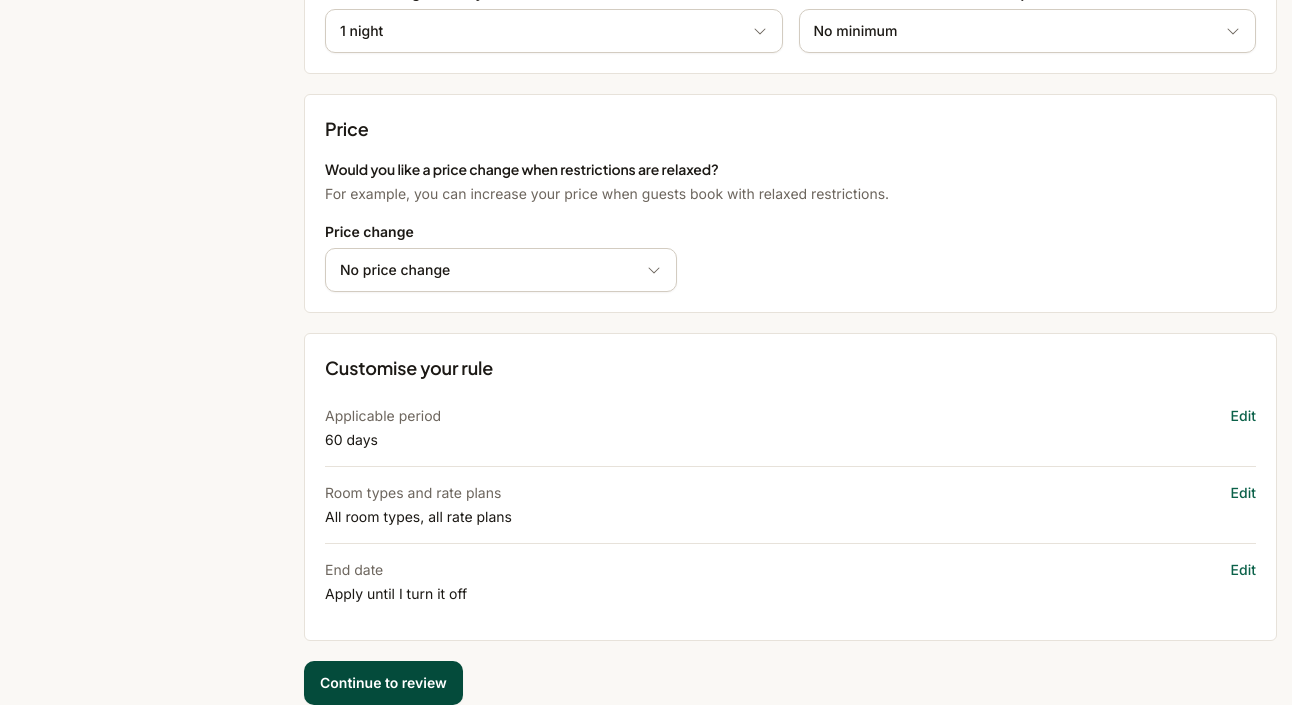
Scenario: Availability rules › saves an unsold nights rule on the property
Later steps or results of the test are not shown.
(page scrolled)
Click the button "Continue to review": point(383, 682) [304,660,463,704]
(page scrolled)
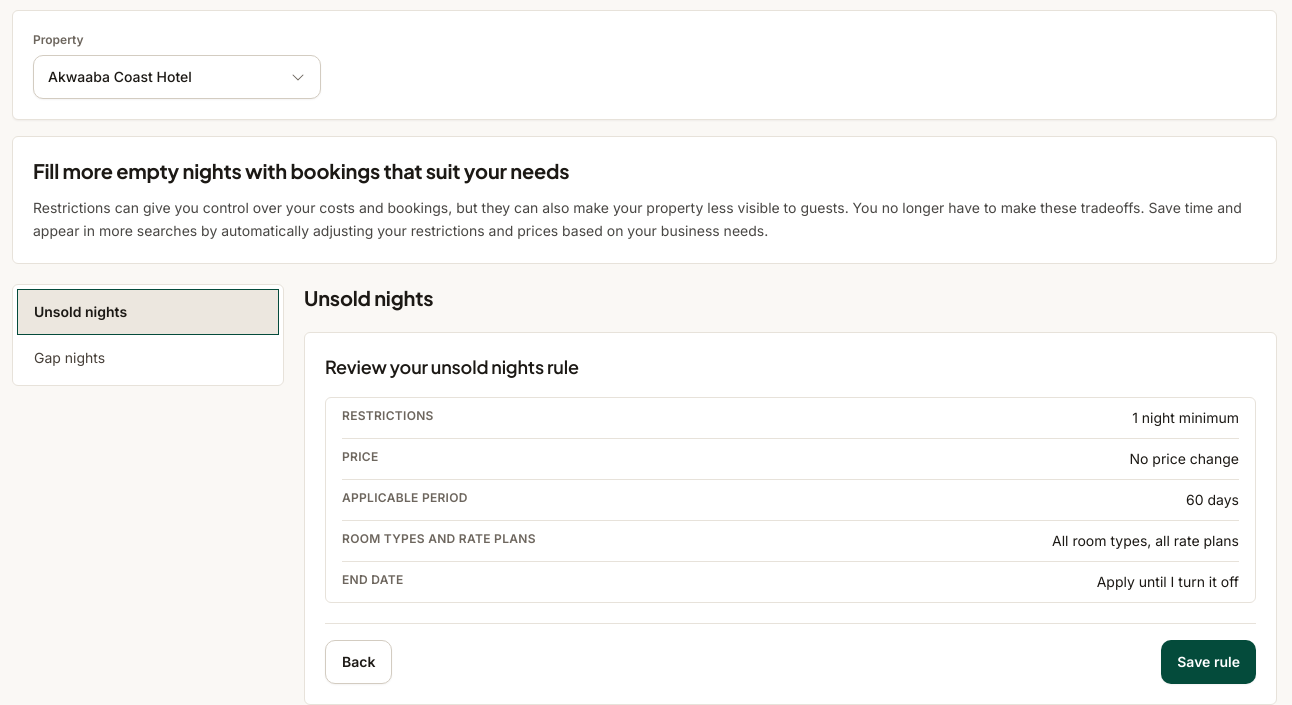
Expected: the heading "Review your unsold nights rule" is shown, [325,354,579,378]
